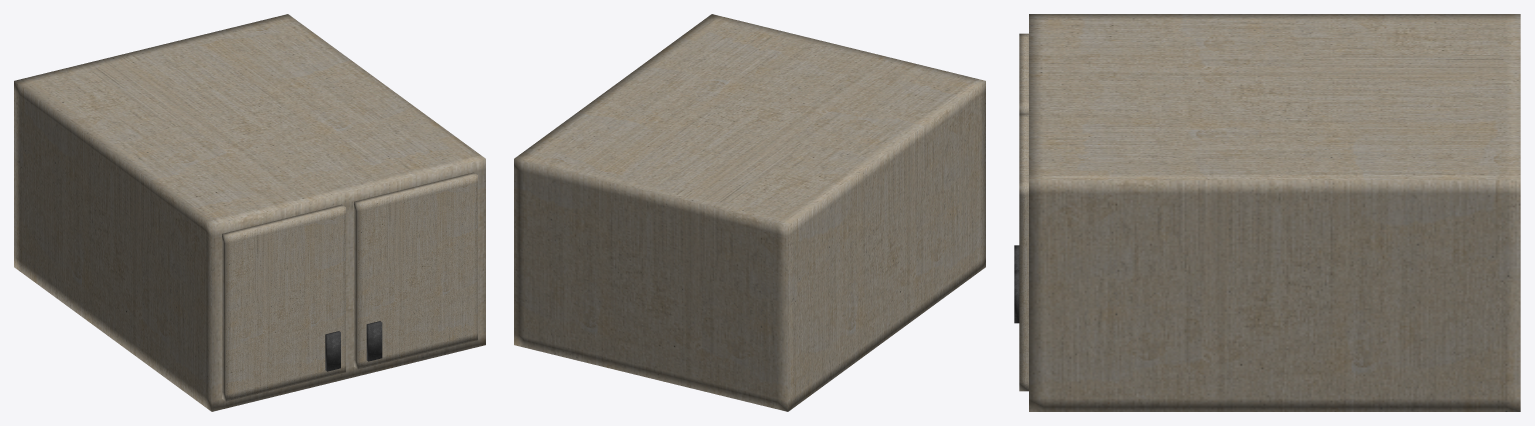
Rendered from cabinet.high.004.fbx.
3 views of the same model, side by side, from view 1: azimuth 30°, elevation 25°; view 2: azimuth 150°, elevation 25°; view 3: azimuth 270°, elevation 25° (orthographic). The views are drawn at different scales.
Visible parts, largest first — view 1: Base, Drawer.001, Drawer.002, Handle.002, Handle.001; view 2: Base; view 3: Base, Drawer.002, Drawer.001.
Boxes of the visible parts, x1,y1,x2,y2 form: Base: [14, 14, 485, 411]; Drawer.001: [222, 204, 345, 401]; Drawer.002: [354, 172, 477, 369]; Handle.002: [366, 321, 382, 361]; Handle.001: [325, 331, 340, 371]; Base: [514, 14, 985, 411]; Base: [1029, 14, 1520, 411]; Drawer.002: [1019, 113, 1028, 391]; Drawer.001: [1019, 33, 1028, 113].
Bounding box in the file's own units: 80 × 52 × 103.
